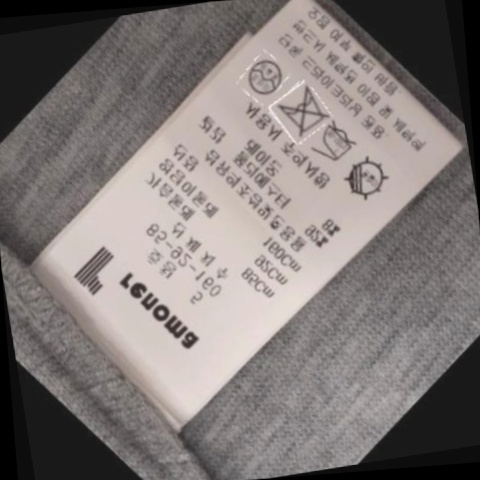DN_wash: (270, 85, 331, 139)
dry_clean_petrol_only: (239, 52, 287, 99)
iron_low: (308, 120, 362, 168)
line_dry_in_shade: (334, 154, 392, 205)
